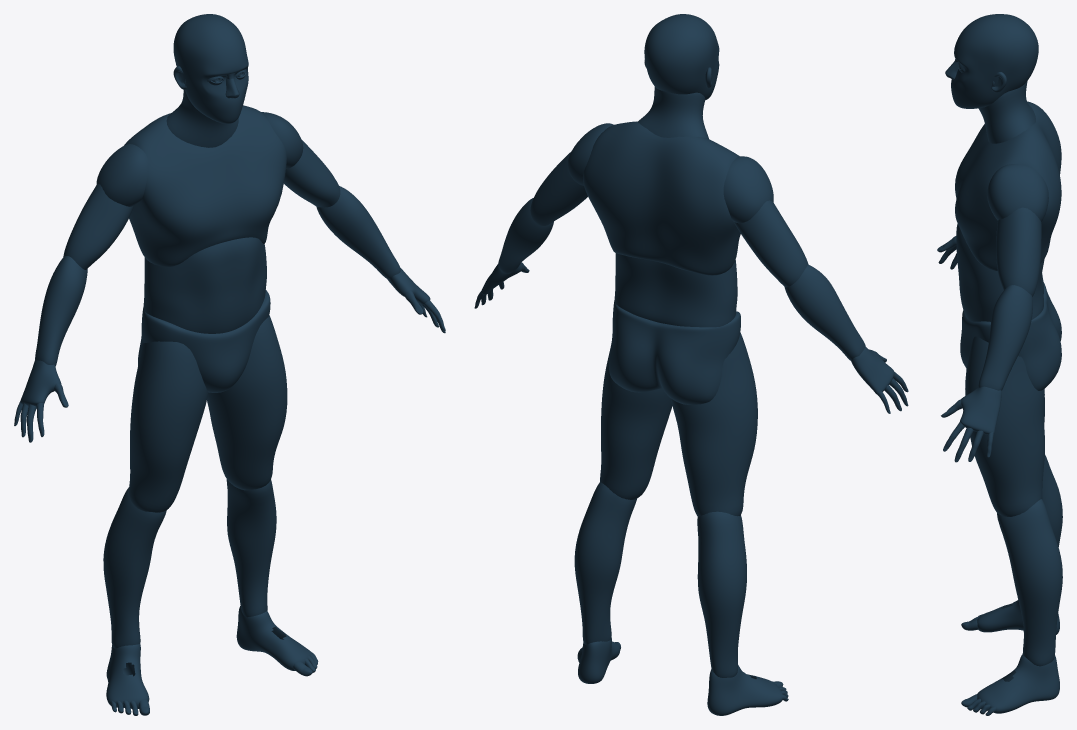
File: CuerpoSeparado-test.glb
3 views of the same model, side by side, from view 1: azimuth 30°, elevation 25°; view 2: azimuth 150°, elevation 25°; view 3: azimuth 270°, elevation 25° (orthographic). The views are drawn at different scales.
Visible parts, largest first — view 1: Pecho, MusloDer, Torso, MusloIzq, Cabeza, PantorrillaDer, PantorrillaIzq, Pelvis, AntebrazoDer, AntebrazoIzq, BrazoDer, HombroDer (+6 smaller); view 2: Pecho, MusloDer, Pelvis, Torso, PantorrillaDer, MusloIzq, PantorrillaIzq, Cabeza, AntebrazoDer, BrazoDer, Cuello, PieDer (+6 smaller); view 3: MusloIzq, Pecho, PantorrillaIzq, Cabeza, Pelvis, AntebrazoIzq, BrazoIzq, Torso, PieIzq, HombroIzq, Cuello, PalmaIzq (+3 smaller).
Part boxes in pixels (<box>): Pecho: <box>124,105,286,266</box>; MusloDer: <box>129,341,208,512</box>; Torso: <box>143,237,266,333</box>; MusloIzq: <box>207,315,287,490</box>; Cabeza: <box>173,14,248,123</box>; PantorrillaDer: <box>103,487,166,648</box>; PantorrillaIzq: <box>226,479,276,617</box>; Pelvis: <box>138,290,270,392</box>; AntebrazoDer: <box>35,256,87,365</box>; AntebrazoIzq: <box>316,186,400,279</box>; BrazoDer: <box>63,184,133,269</box>; HombroDer: <box>96,144,148,206</box>; Pecho: <box>583,121,740,275</box>; MusloDer: <box>671,332,757,516</box>; Pelvis: <box>609,300,740,404</box>; Torso: <box>614,253,737,327</box>; PantorrillaDer: <box>697,511,746,677</box>; MusloIzq: <box>600,346,672,499</box>; PantorrillaIzq: <box>574,482,636,644</box>; Cabeza: <box>644,14,719,100</box>; AntebrazoDer: <box>784,264,865,360</box>; BrazoDer: <box>734,200,808,287</box>; Cuello: <box>637,86,708,138</box>; PieDer: <box>707,665,782,715</box>; MusloIzq: <box>965,336,1044,516</box>; Pecho: <box>955,101,1061,270</box>; PantorrillaIzq: <box>997,499,1062,666</box>; Cabeza: <box>951,14,1038,108</box>; Pelvis: <box>960,282,1061,390</box>; AntebrazoIzq: <box>978,285,1032,390</box>; BrazoIzq: <box>996,207,1041,296</box>; Torso: <box>956,223,1044,321</box>; PieIzq: <box>977,654,1059,713</box>; HombroIzq: <box>987,164,1048,221</box>; Cuello: <box>978,81,1035,143</box>; PalmaIzq: <box>960,386,1001,434</box>.
Size of the model in its own units: 1.12 by 1.69 by 0.2966.
